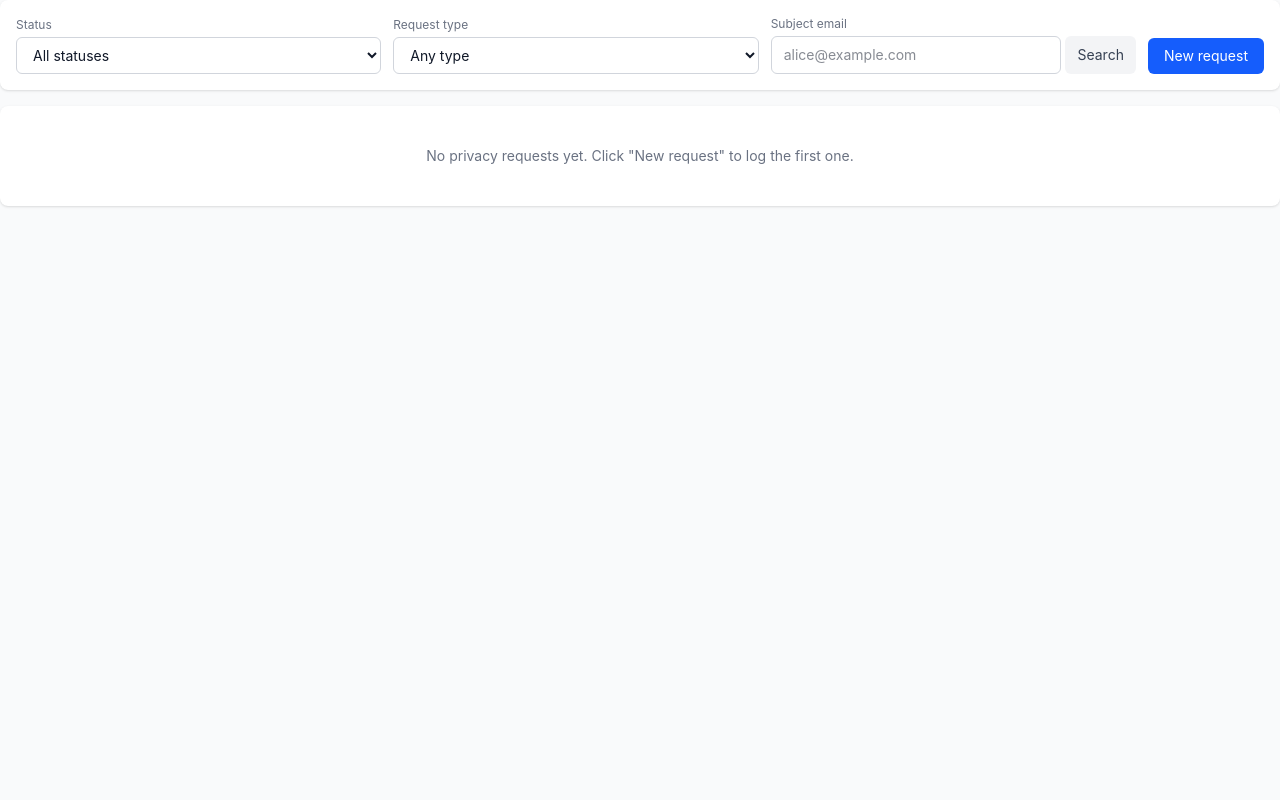
Test: PrivacyRequestsTab › opens the new request modal when New request is clicked
The image size is (1280, 800).
Click the button "New request" at coordinates (1206, 56), box [1148,38,1264,74]
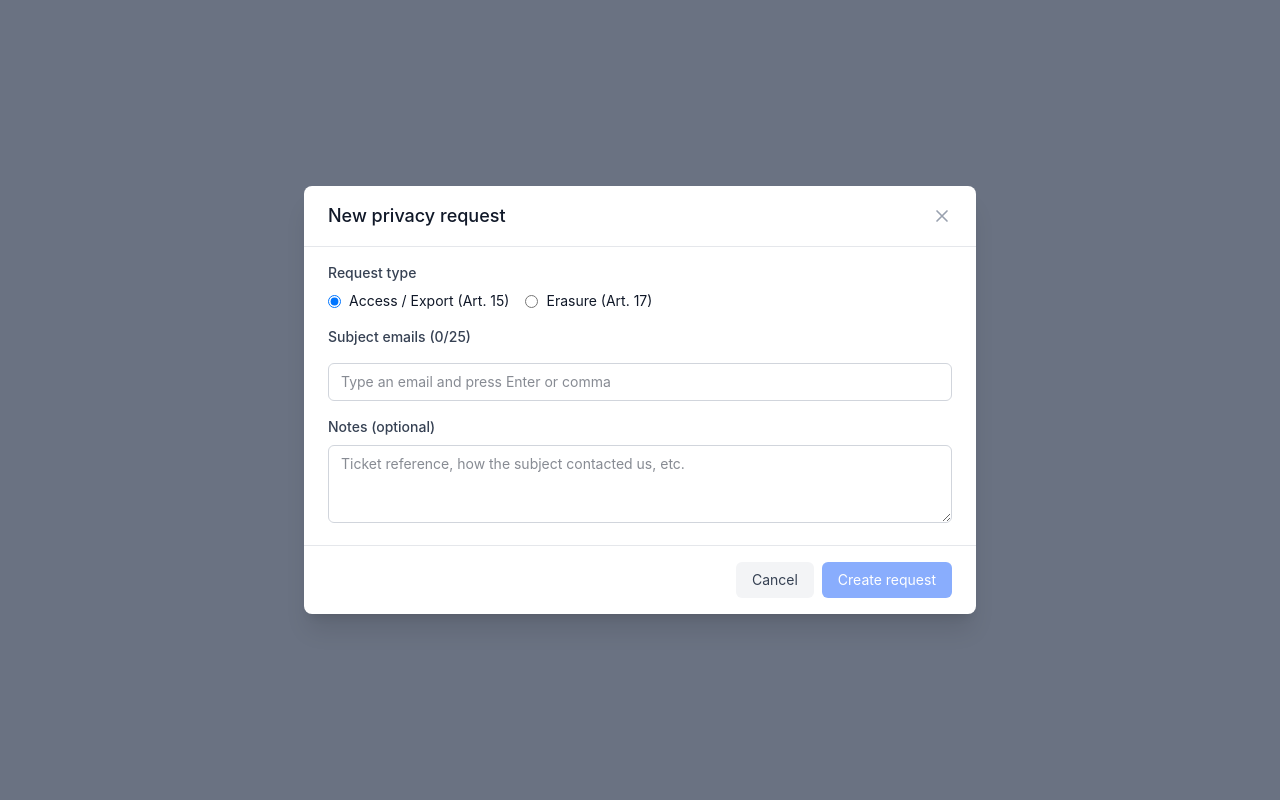
Expected: the dialog "New privacy request" is shown
